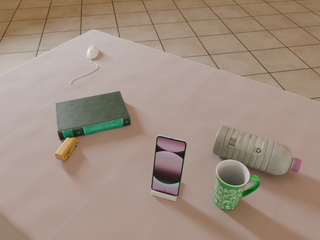book: (55, 91, 130, 140)
bottle: (212, 125, 301, 175)
cup: (214, 159, 260, 210)
mouse: (87, 45, 99, 59)
phone: (151, 135, 187, 196)
toy_car: (55, 137, 78, 160)
